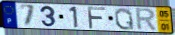1: (68, 6, 79, 29)
3: (38, 5, 58, 29)
7: (18, 4, 36, 28)
F: (86, 6, 107, 30)
Q: (114, 7, 136, 31)
R: (135, 8, 158, 33)
